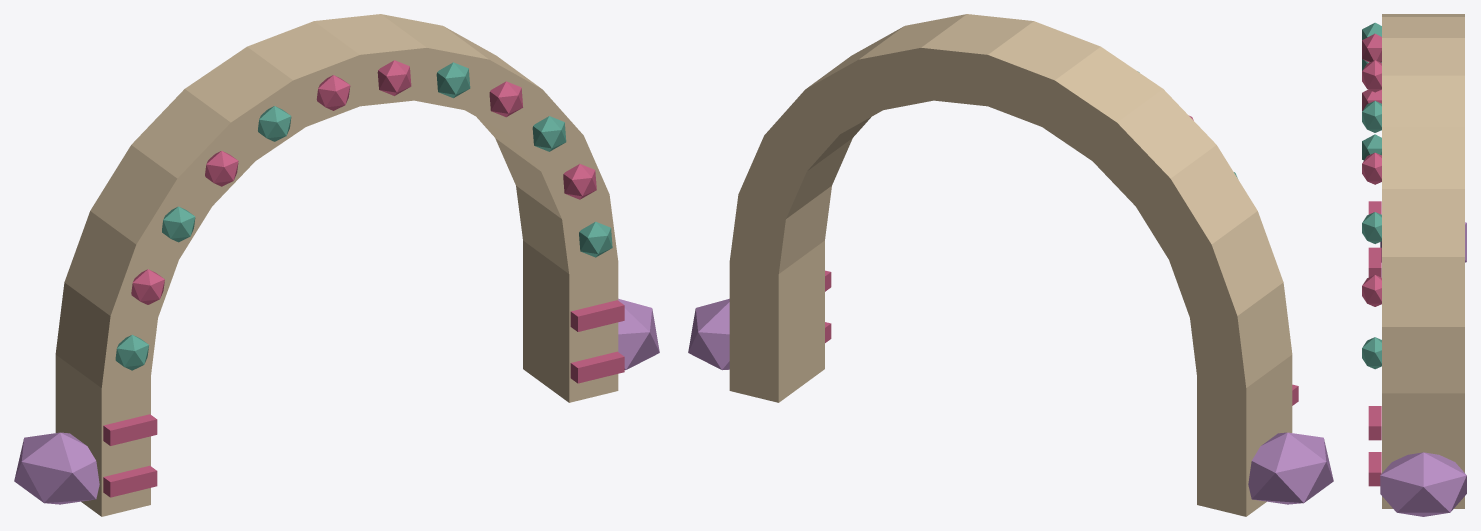
Rendered from Candyland_FrostingGate_Showcase.glb.
3 views of the same model, side by side, from view 1: azimuth 30°, elevation 25°; view 2: azimuth 150°, elevation 25°; view 3: azimuth 270°, elevation 25° (orthographic). The views are drawn at different scales.
Parts seen in each view (by area): view 1: Candyland_FrostingGate_Showcase; view 2: Candyland_FrostingGate_Showcase; view 3: Candyland_FrostingGate_Showcase.
Part boxes in pixels (left/top/right/bottom): Candyland_FrostingGate_Showcase: left=14, top=14, right=659, bottom=516; Candyland_FrostingGate_Showcase: left=688, top=14, right=1333, bottom=516; Candyland_FrostingGate_Showcase: left=1362, top=14, right=1466, bottom=516.
Size of the model in its own units: 5.13 by 3.1 by 0.8223.
